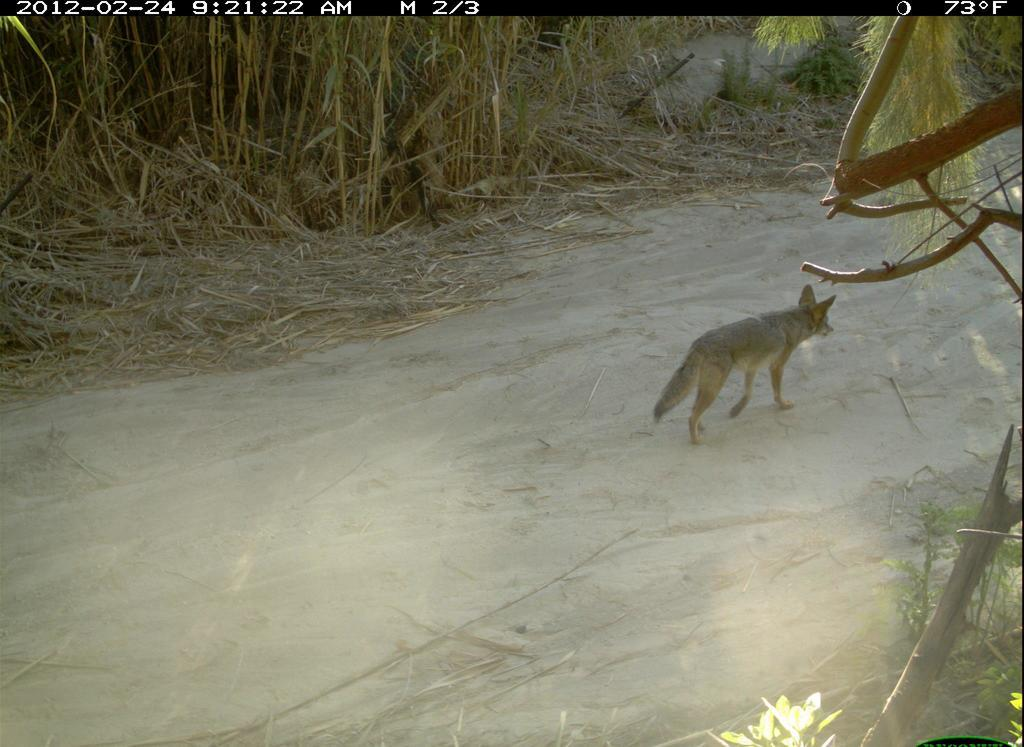coyote: (648, 278, 841, 448)
